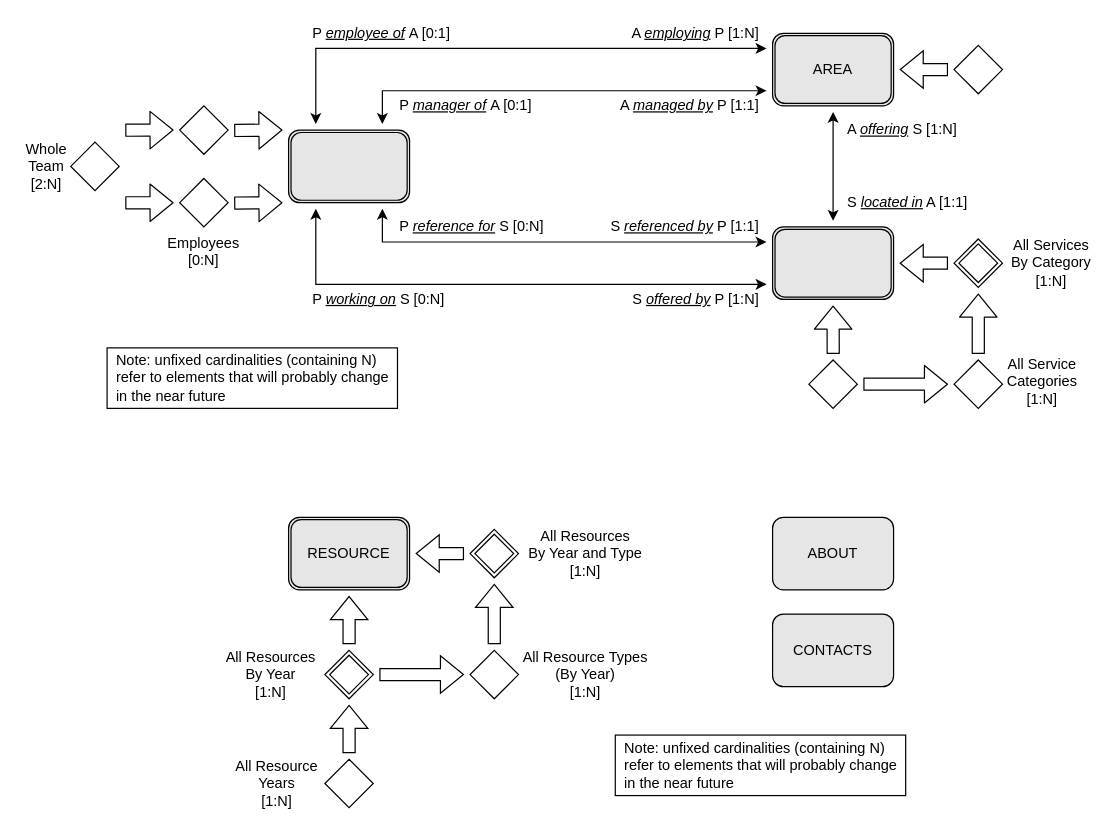
Image size: 1119x834. Some labels were removed from this diagram. Here are the shapes that lost their labels. From the top down, the centre of each, then its label:
the point at 977,69: All Areas [2]
the point at 203,129: Founders [2]
the point at 348,166: PERSON
the point at 832,262: SERVICE
the point at 832,383: All Services [1:N]
